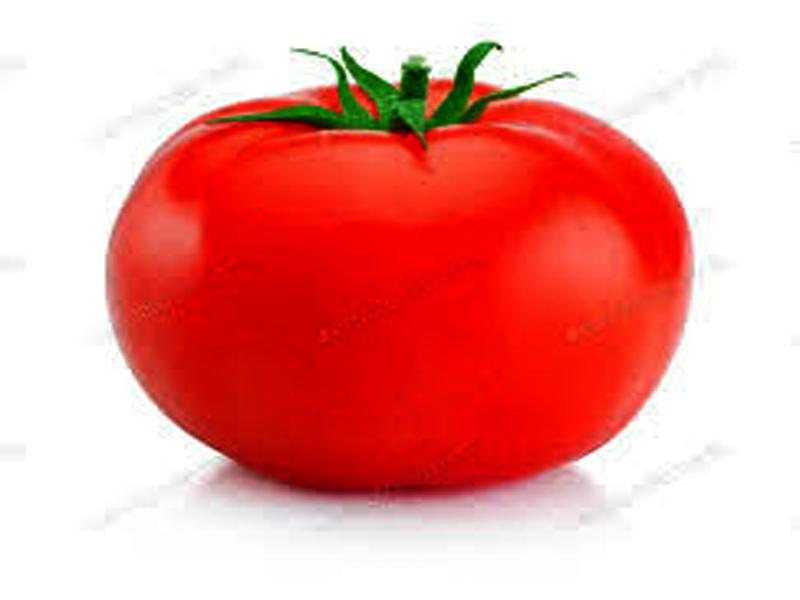Tomato: (105, 81, 691, 479)
